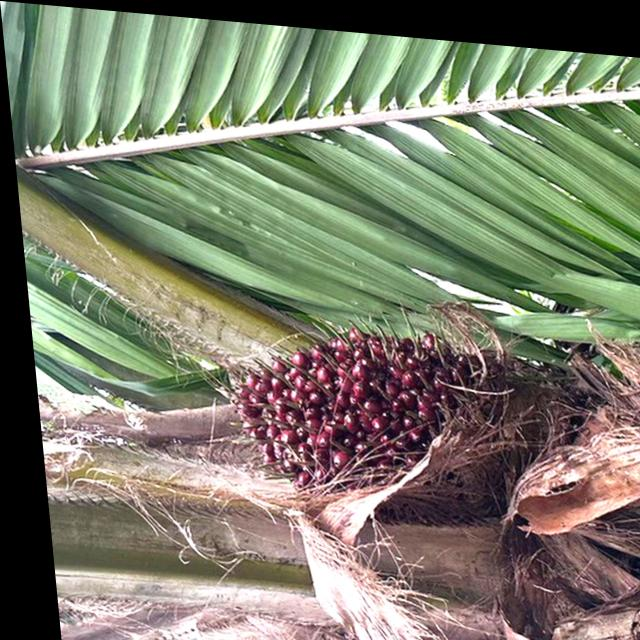ripe: (174, 271, 525, 540)
